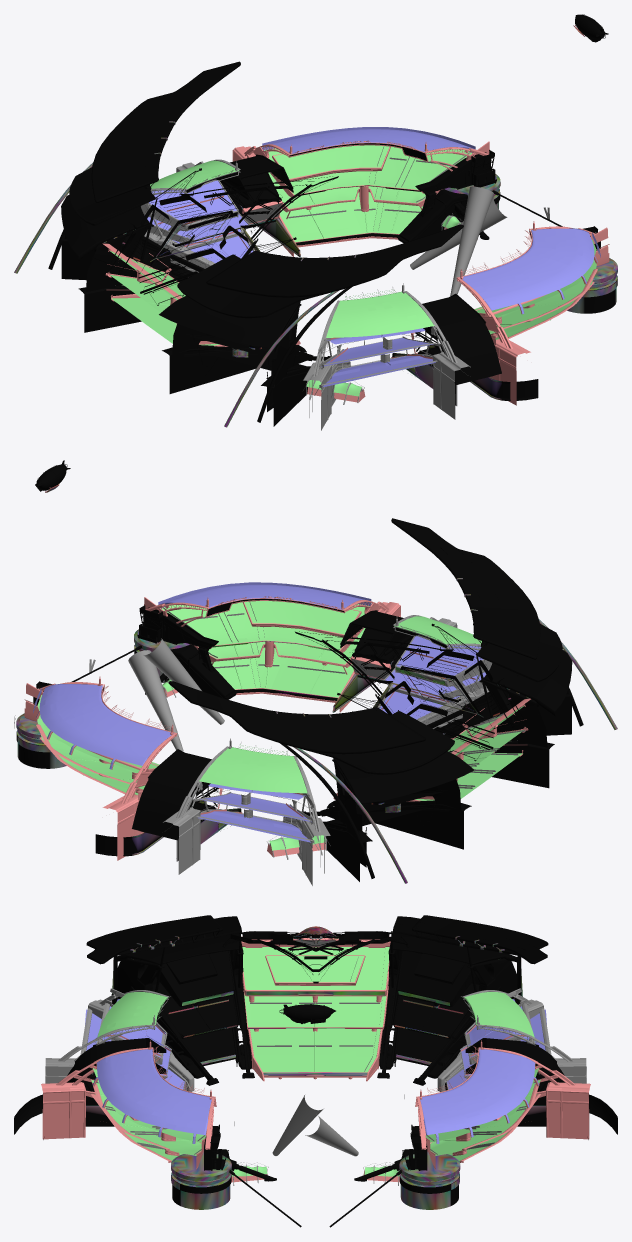
The model's file is CS_OOB2_combined.gltf.
The picture shows the model from 3 angles, top to bottom: view 1: azimuth 30°, elevation 25°; view 2: azimuth 150°, elevation 25°; view 3: azimuth 270°, elevation 25°; orthographic projection. The views are drawn at different scales.
Visible parts, largest first — view 1: CS_Stands_04 (×2), CS_EmblemWing_00 (×2), CS_Stands_00 (×2), CS_Stands_02 (×2), CS_Stands_03 (×2), CS_Stands_05 (×2), CS_Emblem_00, CS_Stands_01, S_EV_SimpleLightBeam_01 (×2), CS_SeparatedAds, CS_Tent_00, Blimp_Offset_SM; view 2: CS_Stands_04 (×2), CS_EmblemWing_00 (×2), CS_Stands_00 (×2), CS_Stands_02 (×2), CS_Stands_03 (×2), CS_Stands_05 (×2), CS_Emblem_00, CS_Stands_01, S_EV_SimpleLightBeam_01 (×2), CS_SeparatedAds, CS_Tent_00, Blimp_Offset_SM; view 3: CS_Stands_00 (×2), CS_Stands_04 (×2), CS_Stands_01, CS_Stands_02 (×2), CS_Stands_05 (×2), CS_EmblemWing_00 (×2), CS_Stands_03 (×2), CS_Emblem_00, CS_SeparatedAds, S_EV_SimpleLightBeam_01 (×2), Blimp_Offset_SM.
Part boxes in pixels (x1,y1,x2,y2): CS_Stands_04 (×2): (232,127,609,405); CS_EmblemWing_00 (×2): (14,61,463,427); CS_Stands_00 (×2): (61,195,330,426); CS_Stands_02 (×2): (141,159,470,430); CS_Stands_03 (×2): (220,154,538,405); CS_Stands_05 (×2): (396,150,617,313); CS_Emblem_00: (92,168,338,305); CS_Stands_01: (102,243,300,346); S_EV_SimpleLightBeam_01 (×2): (410,186,507,296); CS_SeparatedAds: (186,143,531,245); CS_Tent_00: (306,380,365,404); Blimp_Offset_SM: (573,14,608,42); CS_Stands_04 (×2): (24,582,400,860); CS_EmblemWing_00 (×2): (168,518,617,883); CS_Stands_00 (×2): (303,650,572,881); CS_Stands_02 (×2): (163,615,492,885); CS_Stands_03 (×2): (95,610,413,861); CS_Stands_05 (×2): (16,605,237,768); CS_Emblem_00: (295,623,540,761); CS_Stands_01: (333,698,530,801); S_EV_SimpleLightBeam_01 (×2): (128,638,224,751); CS_SeparatedAds: (102,599,447,700); CS_Tent_00: (267,835,326,859); Blimp_Offset_SM: (35,460,70,492); CS_Stands_00 (×2): (111,931,520,1085); CS_Stands_04 (×2): (41,1040,590,1169); CS_Stands_01: (241,936,390,1081); CS_Stands_02 (×2): (45,988,586,1091); CS_Stands_05 (×2): (171,1124,460,1227); CS_EmblemWing_00 (×2): (86,915,548,996); CS_Stands_03 (×2): (14,1038,617,1139); CS_Emblem_00: (222,926,409,983); CS_SeparatedAds: (160,991,471,1090); S_EV_SimpleLightBeam_01 (×2): (272,1095,358,1156); Blimp_Offset_SM: (279,1004,335,1023).
Bounding box in the file's own units: 617 × 296 × 695.
